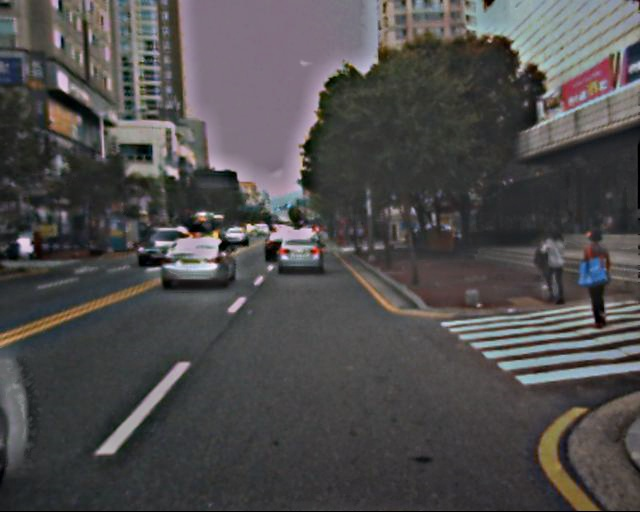person: (571, 225, 615, 333), (538, 225, 570, 304)
